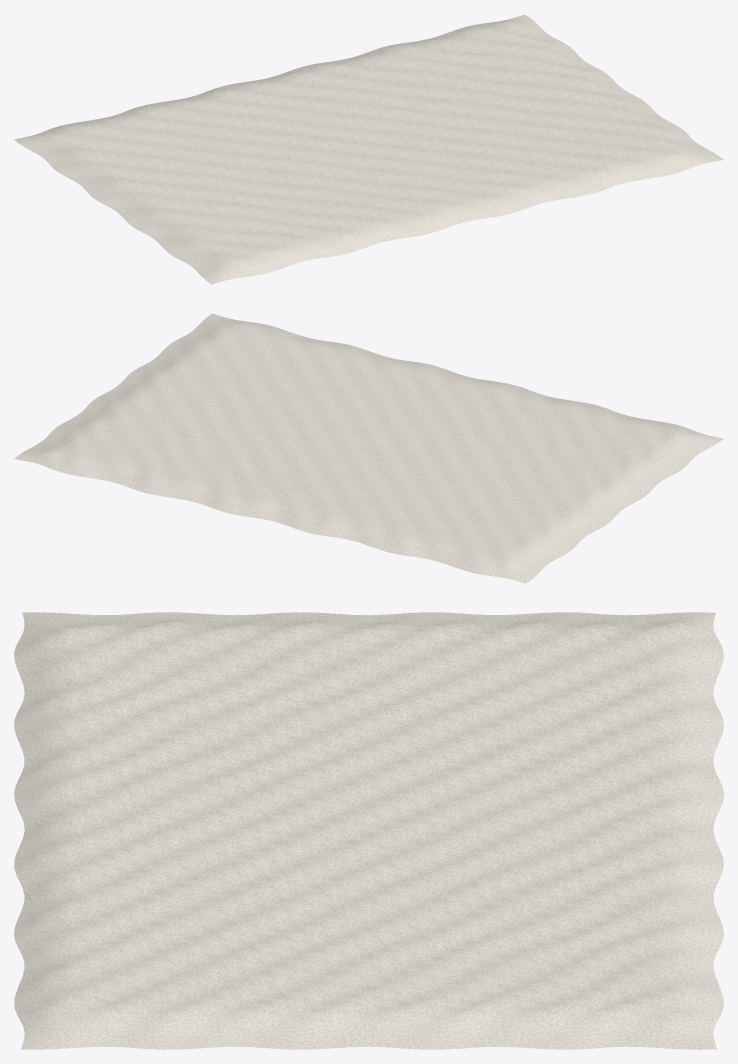
The model's file is h_rug2.glb.
3 renders of one model, top to bottom at view 1: azimuth 30°, elevation 25°; view 2: azimuth 150°, elevation 25°; view 3: azimuth 270°, elevation 25°, orthographic. The views are drawn at different scales.
Visible parts, largest first — view 1: shag; view 2: shag; view 3: shag.
Part boxes in pixels (x1,y1,x2,y2): shag: (14, 14, 723, 284); shag: (14, 313, 723, 583); shag: (14, 612, 723, 1049).
Bounding box in the file's own units: 2.57 × 0.0353 × 1.76.
Materials: 1 (1 with a texture image).
